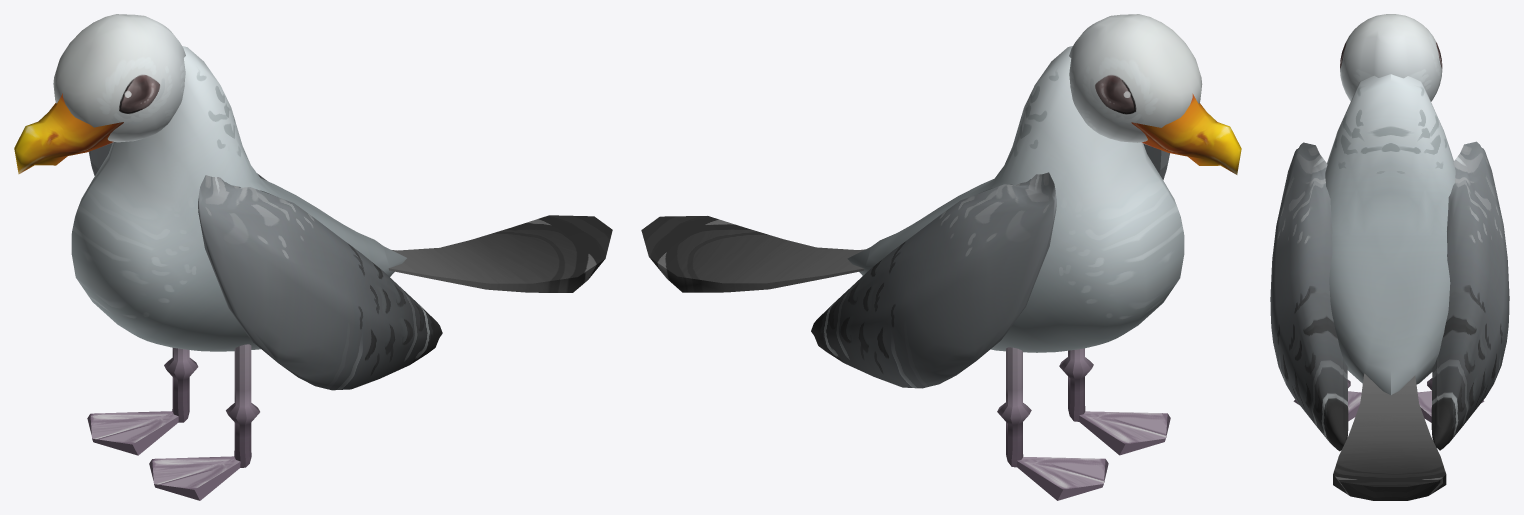
The model's file is maya2sketchfab.fbx.
3 renders of one model, left to right at view 1: azimuth 30°, elevation 25°; view 2: azimuth 150°, elevation 25°; view 3: azimuth 270°, elevation 25°, orthographic. The views are drawn at different scales.
Visible parts, largest first — view 1: pSphere4, polySurface8, polySurface3, pCube1, pCylinder1, pCylinder2; view 2: pSphere4, polySurface7, polySurface3, pCube1, pCylinder2, pCylinder1; view 3: pSphere4, polySurface7, polySurface8, pCube1, polySurface3, pCylinder2, pCylinder1.
Part boxes in pixels (<box>): pSphere4: <box>71,46,406,351</box>; polySurface8: <box>198,175,442,390</box>; polySurface3: <box>14,14,185,174</box>; pCube1: <box>388,215,612,292</box>; pCylinder1: <box>149,344,259,500</box>; pCylinder2: <box>87,348,198,455</box>; pSphere4: <box>847,46,1184,352</box>; polySurface7: <box>811,172,1056,388</box>; polySurface3: <box>1069,14,1241,174</box>; pCube1: <box>641,216,865,292</box>; pCylinder2: <box>997,347,1108,500</box>; pCylinder1: <box>1059,348,1170,455</box>; pSphere4: <box>1325,74,1455,394</box>; polySurface7: <box>1431,141,1509,450</box>; polySurface8: <box>1270,142,1348,451</box>; pCube1: <box>1333,373,1446,500</box>; polySurface3: <box>1340,14,1442,101</box>; pCylinder2: <box>1417,378,1484,422</box>; pCylinder1: <box>1293,379,1361,421</box>.
Size of the model in its own units: 7.71 by 5.58 by 3.21.
Materials: 1 (1 with a texture image).
